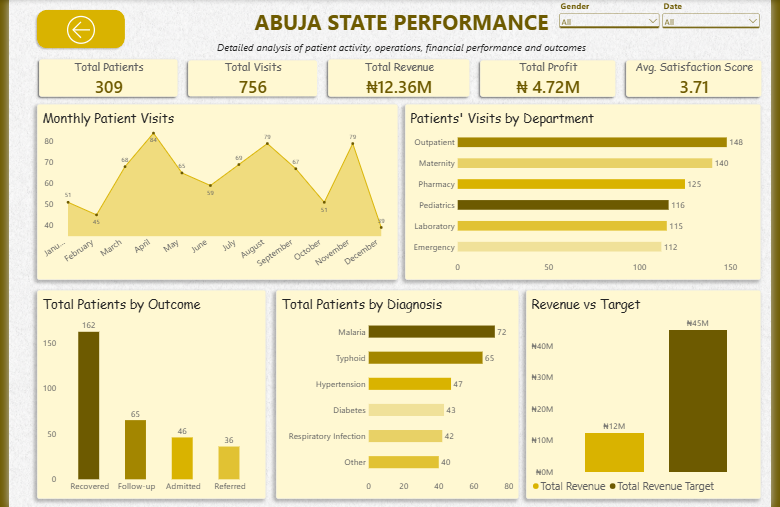

What the dashboard file says about the page in this screenshot:
{"tool":"powerbi","page":{"name":"STATE DETAILS","canvas":[2400,1600],"ordinal":5},"visuals":[{"type":"textbox","box":[450.4,22,1571.7,154.3],"z":0},{"type":"cardVisual","fields":{"Data":["Date_Table.Total Patients"]},"box":[78.7,170.1,469.3,151.2],"z":1000},{"type":"cardVisual","fields":{"Data":["Date_Table.Total Visits"]},"box":[548,173.2,440,147.6],"z":2000},{"type":"cardVisual","fields":{"Data":["Date_Table.Total Profit"]},"box":[1467.7,173.2,459.8,148],"z":3000},{"type":"actionButton","box":[79.7,20.7,295.3,138.8],"z":4000},{"type":"cardVisual","fields":{"Data":["Date_Table.Total Revenue"]},"box":[989,170.1,478.7,151.2],"z":5000},{"type":"lineChart","title":"Monthly Patient Visits","fields":{"Category":["Date_Table.Date.Variation.Date Hierarchy.Month"],"Y":["Date_Table.Total Visits"]},"box":[88.2,327.6,1137,554.3],"z":6000},{"type":"clusteredBarChart","title":"Patients'' Visits by Department","fields":{"Category":["Patient_Visits.Department"],"Y":["Date_Table.Total Visits"]},"box":[1247.2,327.6,1121.3,554.3],"z":7000},{"type":"clusteredColumnChart","fields":{"Category":["Patient_Visits.Outcome"],"Y":["Date_Table.Total Patients"]},"box":[88.2,913.4,721.3,658.3],"z":8000},{"type":"clusteredColumnChart","title":"Revenue vs Target","fields":{"Y":["Date_Table.Total Revenue","Date_Table.Total Revenue Target"]},"box":[1628.3,913.4,740.2,658.3],"z":9000},{"type":"clusteredBarChart","fields":{"Category":["Patient_Visits.Diagnosis"],"Y":["Date_Table.Total Patients"]},"box":[840.9,913.4,765.4,658.3],"z":10000},{"type":"slicer","fields":{"Values":["Date_Table.Date"]},"box":[2053.5,0,315,113.4],"z":11000},{"type":"slicer","fields":{"Values":["Patient_Visits.Gender"]},"box":[1729.1,0,324.4,110.2],"z":12000},{"type":"cardVisual","fields":{"Data":["Date_Table.Avg. Satisfaction Score"]},"box":[1927.6,173.2,459.8,148],"z":13000}]}

Visuals, with their boxes in screenshot pixels (x1, y1, x2, y2), scaled from the page's 2400x1600 canvas onto the 780x507 screenshot:
textbox: [146,7,657,56]
cardVisual - Date_Table.Total Patients: [26,54,178,102]
cardVisual - Date_Table.Total Visits: [178,55,321,102]
cardVisual - Date_Table.Total Profit: [477,55,626,102]
actionButton: [26,7,122,51]
cardVisual - Date_Table.Total Revenue: [321,54,477,102]
"Monthly Patient Visits" lineChart: [29,104,398,279]
"Patients'' Visits by Department" clusteredBarChart: [405,104,770,279]
clusteredColumnChart - Patient_Visits.Outcome x Date_Table.Total Patients: [29,289,263,498]
"Revenue vs Target" clusteredColumnChart: [529,289,770,498]
clusteredBarChart - Patient_Visits.Diagnosis x Date_Table.Total Patients: [273,289,522,498]
slicer - Date_Table.Date: [667,0,770,36]
slicer - Patient_Visits.Gender: [562,0,667,35]
cardVisual - Date_Table.Avg. Satisfaction Score: [626,55,776,102]
